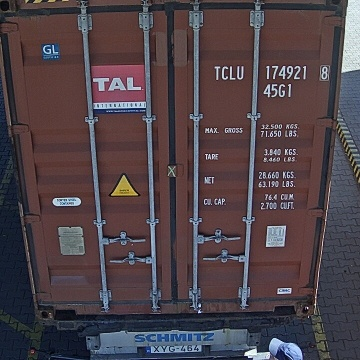serial_id: (214, 65, 329, 79)
